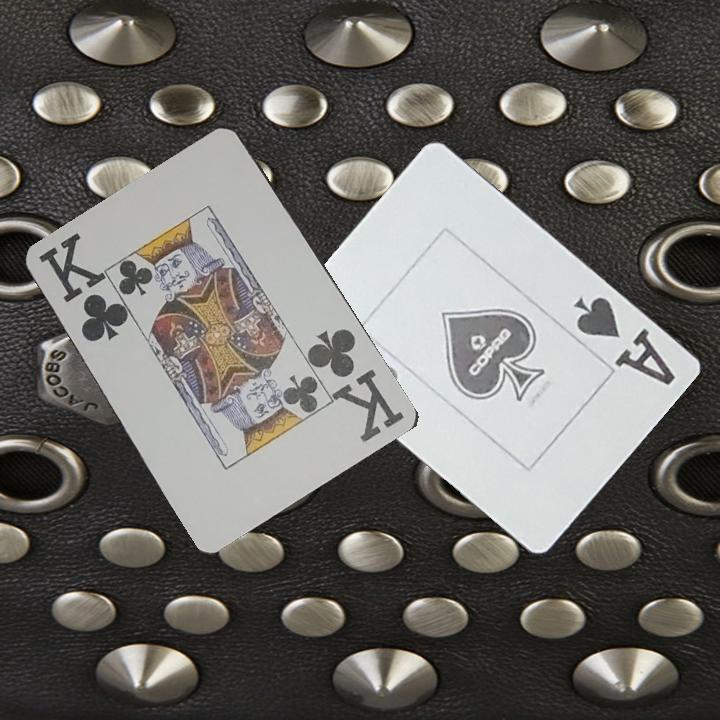As: (570, 292, 680, 389)
Kc: (305, 325, 408, 445), (35, 233, 129, 347)
